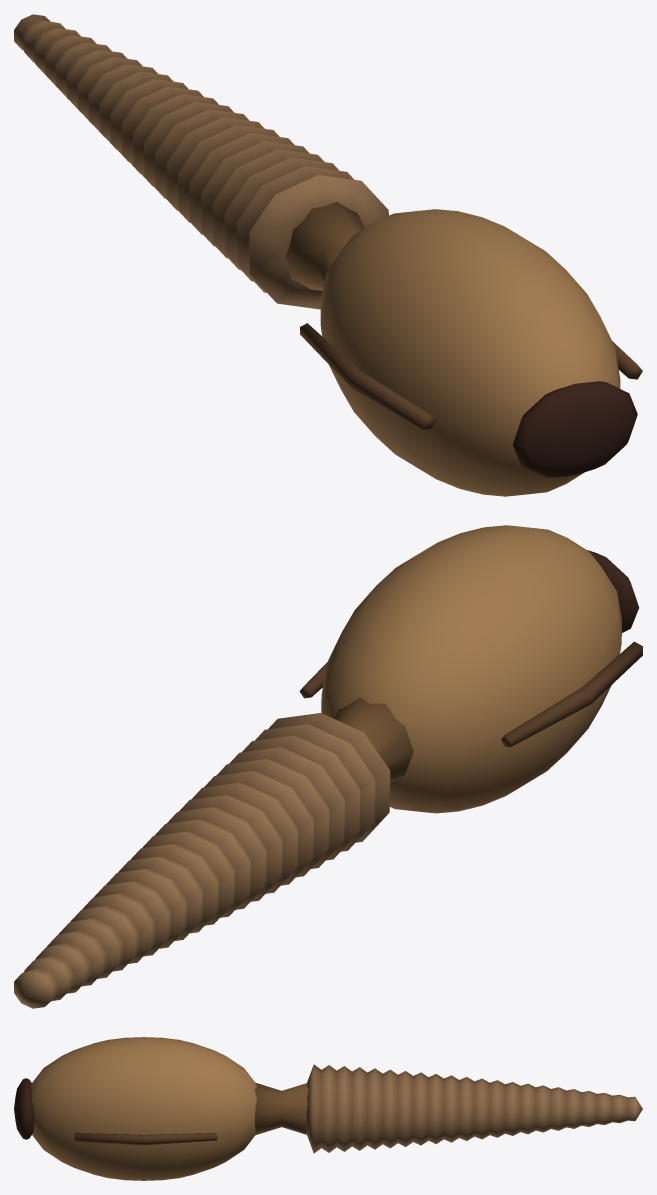
File: Banffia.fbx
The picture shows the model from 3 angles, top to bottom: view 1: azimuth 30°, elevation 25°; view 2: azimuth 150°, elevation 25°; view 3: azimuth 270°, elevation 25°; orthographic projection. The views are drawn at different scales.
Visible parts, largest first — view 1: Banffia; view 2: Banffia; view 3: Banffia.
Boxes of the visible parts, <box> form: Banffia: <box>14,14,642,496</box>; Banffia: <box>14,525,642,1008</box>; Banffia: <box>14,1037,642,1180</box>.
Bounding box in the file's own units: 0.3853 × 0.36 × 1.55.
